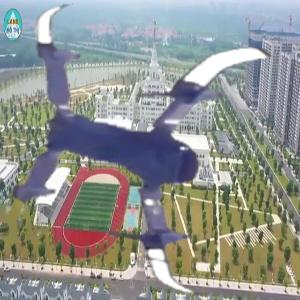drone: (3, 6, 297, 300)
